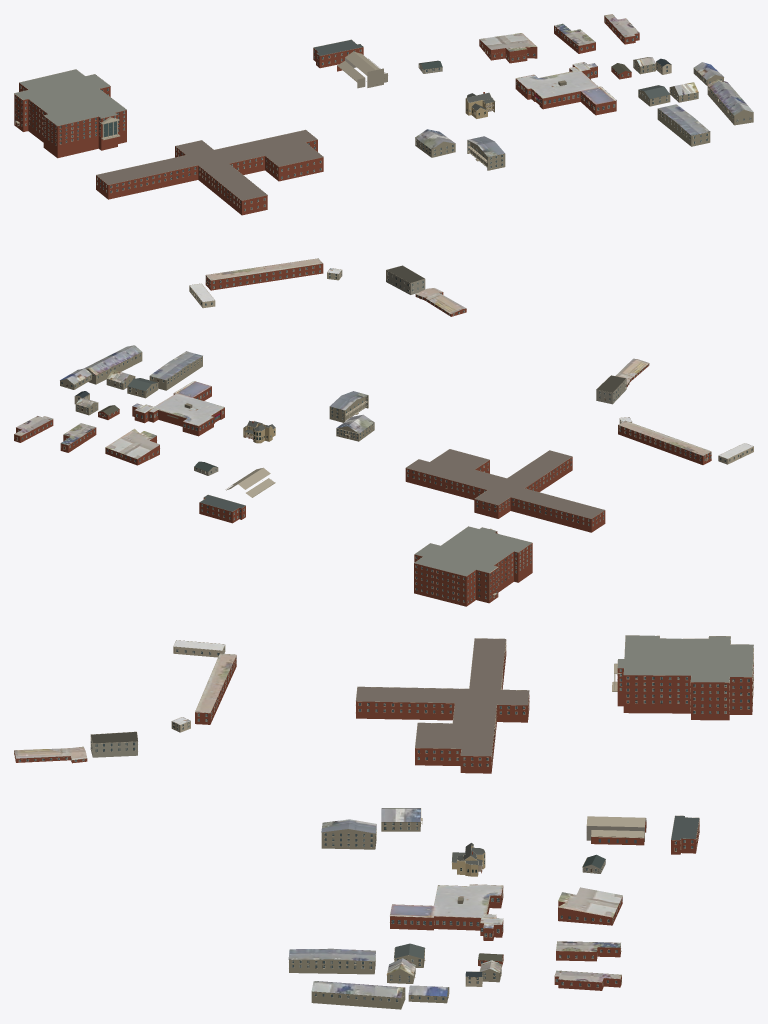
3 renders of one model, top to bottom at view 1: azimuth 30°, elevation 25°; view 2: azimuth 150°, elevation 25°; view 3: azimuth 270°, elevation 25°, orthographic. The views are drawn at different scales.
Visible parts, largest first — view 1: -2_0_188827132_0, -2_0_318264455_2, -2_0_318264530_4, -2_0_318874199_7; view 2: -2_0_188827132_0, -2_0_318264455_2, -2_0_318264530_4, -2_0_318874199_7; view 3: -2_0_188827132_0, -2_0_318264455_2, -2_0_318264530_4, -2_0_318874199_7.
Boxes of the visible parts, x1=… form: -2_0_188827132_0: x1=14, y1=14, x2=751, y2=316; -2_0_318264455_2: x1=189, y1=14, x2=753, y2=313; -2_0_318264530_4: x1=189, y1=62, x2=671, y2=308; -2_0_318874199_7: x1=386, y1=63, x2=442, y2=294; -2_0_188827132_0: x1=14, y1=354, x2=753, y2=606; -2_0_318264455_2: x1=14, y1=345, x2=752, y2=459; -2_0_318264530_4: x1=74, y1=394, x2=753, y2=464; -2_0_318874199_7: x1=194, y1=379, x2=626, y2=475; -2_0_188827132_0: x1=14, y1=635, x2=753, y2=1002; -2_0_318264455_2: x1=14, y1=640, x2=622, y2=1009; -2_0_318264530_4: x1=171, y1=645, x2=485, y2=986; -2_0_318874199_7: x1=90, y1=736, x2=605, y2=873.
Size of the model in its own units: 504 by 28.43 by 439.
Materials: 22 (1 with a texture image).
